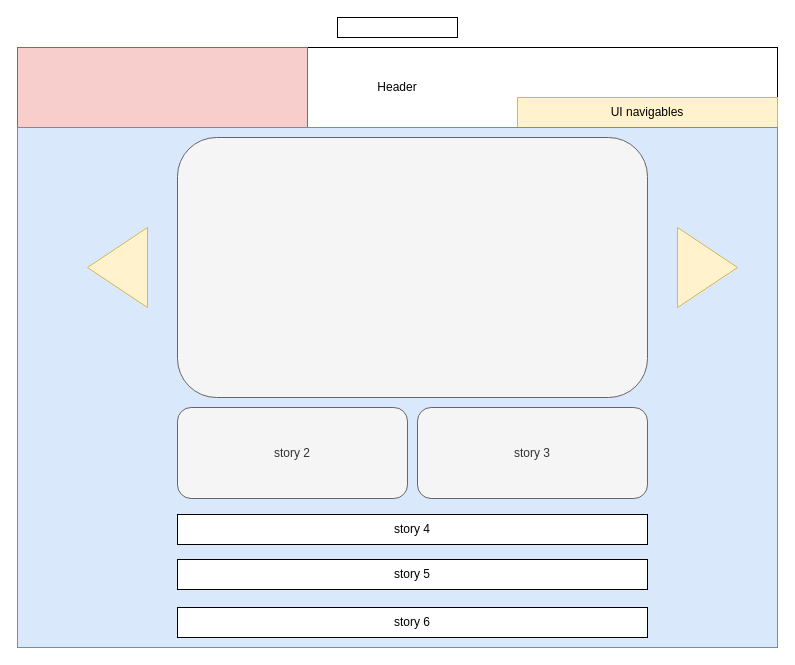
This 795x665 diagram has some shape labels left out. The centre of each missing label's shape, as x and y in pixels:
Action picture: (162,87)
screen 2: (397,27)
Story 1: (412,267)
